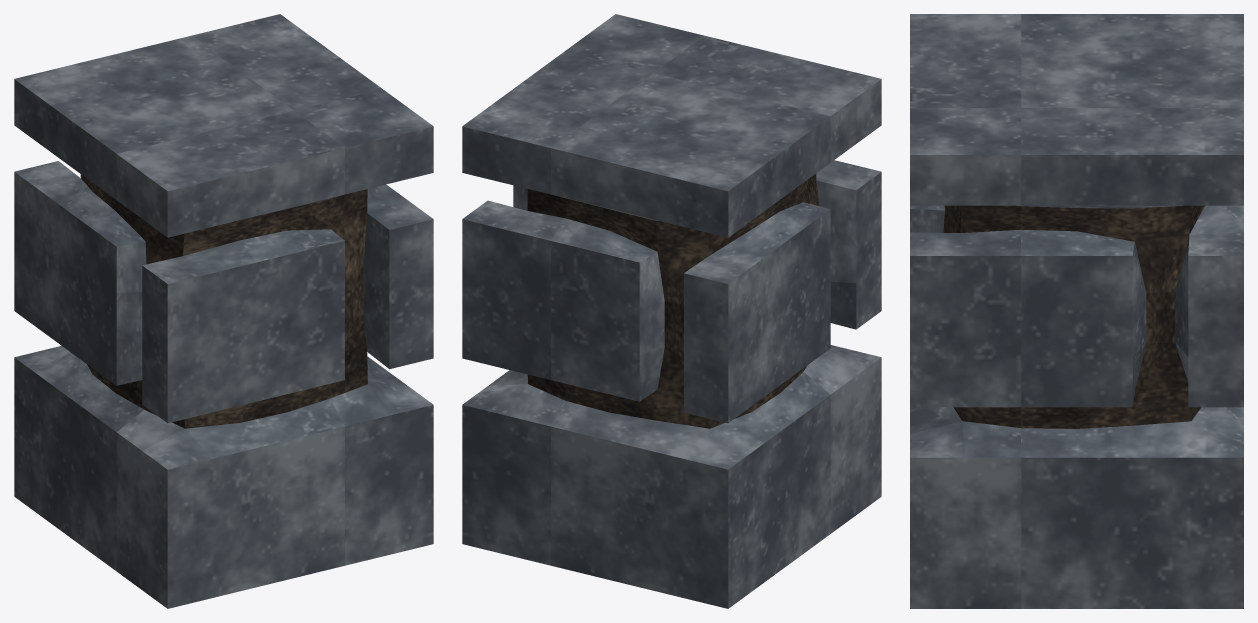
The model's file is pool_bank_corner.glb.
3 renders of one model, left to right at view 1: azimuth 30°, elevation 25°; view 2: azimuth 150°, elevation 25°; view 3: azimuth 270°, elevation 25°, orthographic. The views are drawn at different scales.
Visible parts, largest first — view 1: crypt_pool_bank_corner; view 2: crypt_pool_bank_corner; view 3: crypt_pool_bank_corner.
Boxes of the visible parts, <box> form: crypt_pool_bank_corner: <box>14,14,433,608</box>; crypt_pool_bank_corner: <box>462,14,881,608</box>; crypt_pool_bank_corner: <box>910,14,1243,608</box>.
Bounding box in the file's own units: 0.375 × 0.5625 × 0.375.
1 material, 1 textured.
